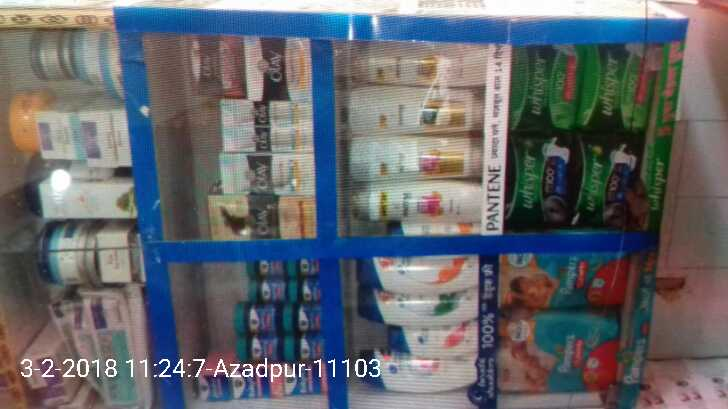vicks: (193, 256, 325, 401)
